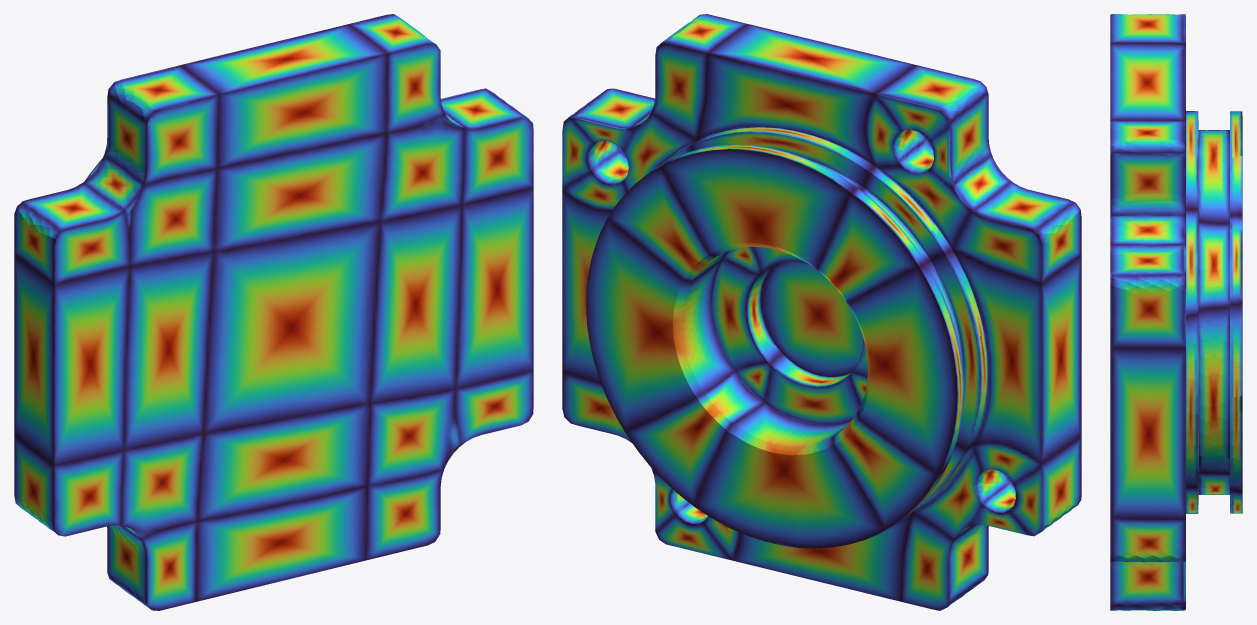
The model's file is gen1.glb.
3 renders of one model, left to right at view 1: azimuth 30°, elevation 25°; view 2: azimuth 150°, elevation 25°; view 3: azimuth 270°, elevation 25°, orthographic. The views are drawn at different scales.
Visible parts, largest first — view 1: Node; view 2: Node; view 3: Node.
Part boxes in pixels (bbox=[...]): Node: bbox=[14, 14, 533, 610]; Node: bbox=[562, 14, 1081, 610]; Node: bbox=[1110, 14, 1242, 610].
Bounding box in the file's own units: 82.52 × 82.52 × 21.01.
1 material, 1 textured.
